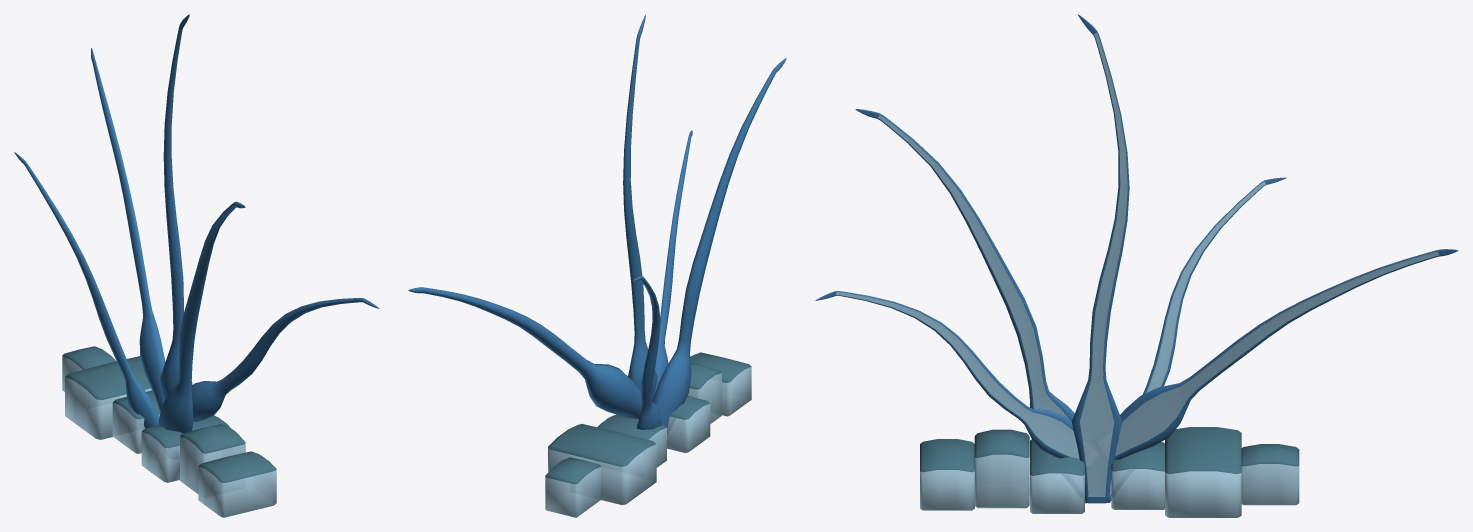
The model's file is Trikoma_3.fbx.
3 views of the same model, side by side, from view 1: azimuth 30°, elevation 25°; view 2: azimuth 150°, elevation 25°; view 3: azimuth 270°, elevation 25° (orthographic). The views are drawn at different scales.
Parts seen in each view (by area): view 1: Trikoma_3; view 2: Trikoma_3; view 3: Trikoma_3.
Part boxes in pixels (x1=…): Trikoma_3: x1=14, y1=14, x2=379, y2=517; Trikoma_3: x1=408, y1=14, x2=786, y2=517; Trikoma_3: x1=815, y1=14, x2=1458, y2=517.
Size of the model in its own units: 257 by 705 by 831.
